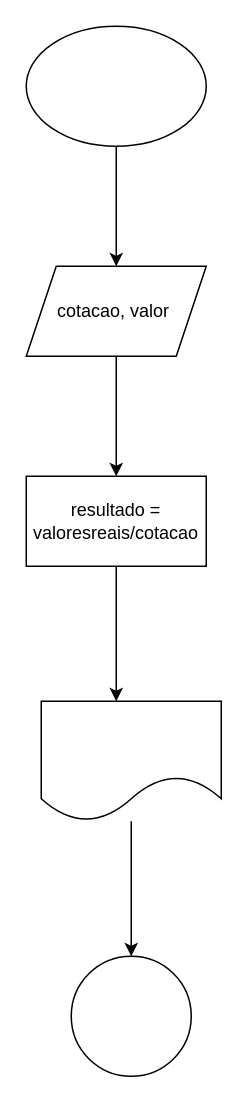
Some shapes in this 248 by 1103 pixel diagram are drawn without their labels. The shapes that lost their labels are listed below. From the top down, each one's centre as x and y in pixels, then its label:
(115,85): inicio
(130,760): resultado
